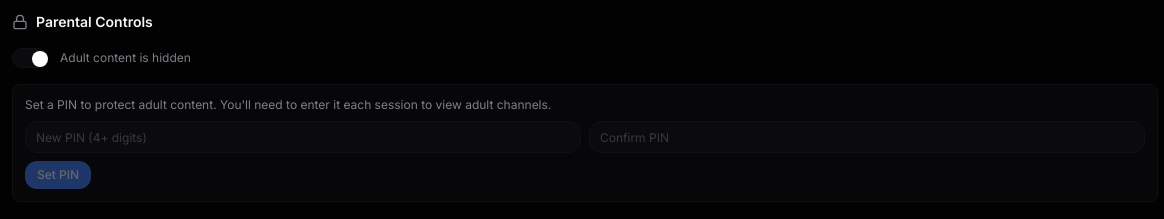
Test: PinSetup › strips non-digit characters from the input
The width and height of the screenshot is (1164, 219).
Type "12a3b4" into the password field with placeholder "New PIN (4+ digits)".
click(303, 137); type("12a3b4")  # box [25, 121, 581, 153]
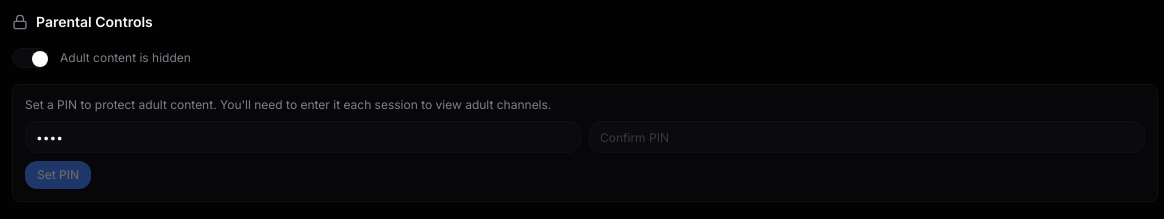
Now the password field with placeholder "New PIN (4+ digits)" holds "1234", box [25, 121, 581, 153]
